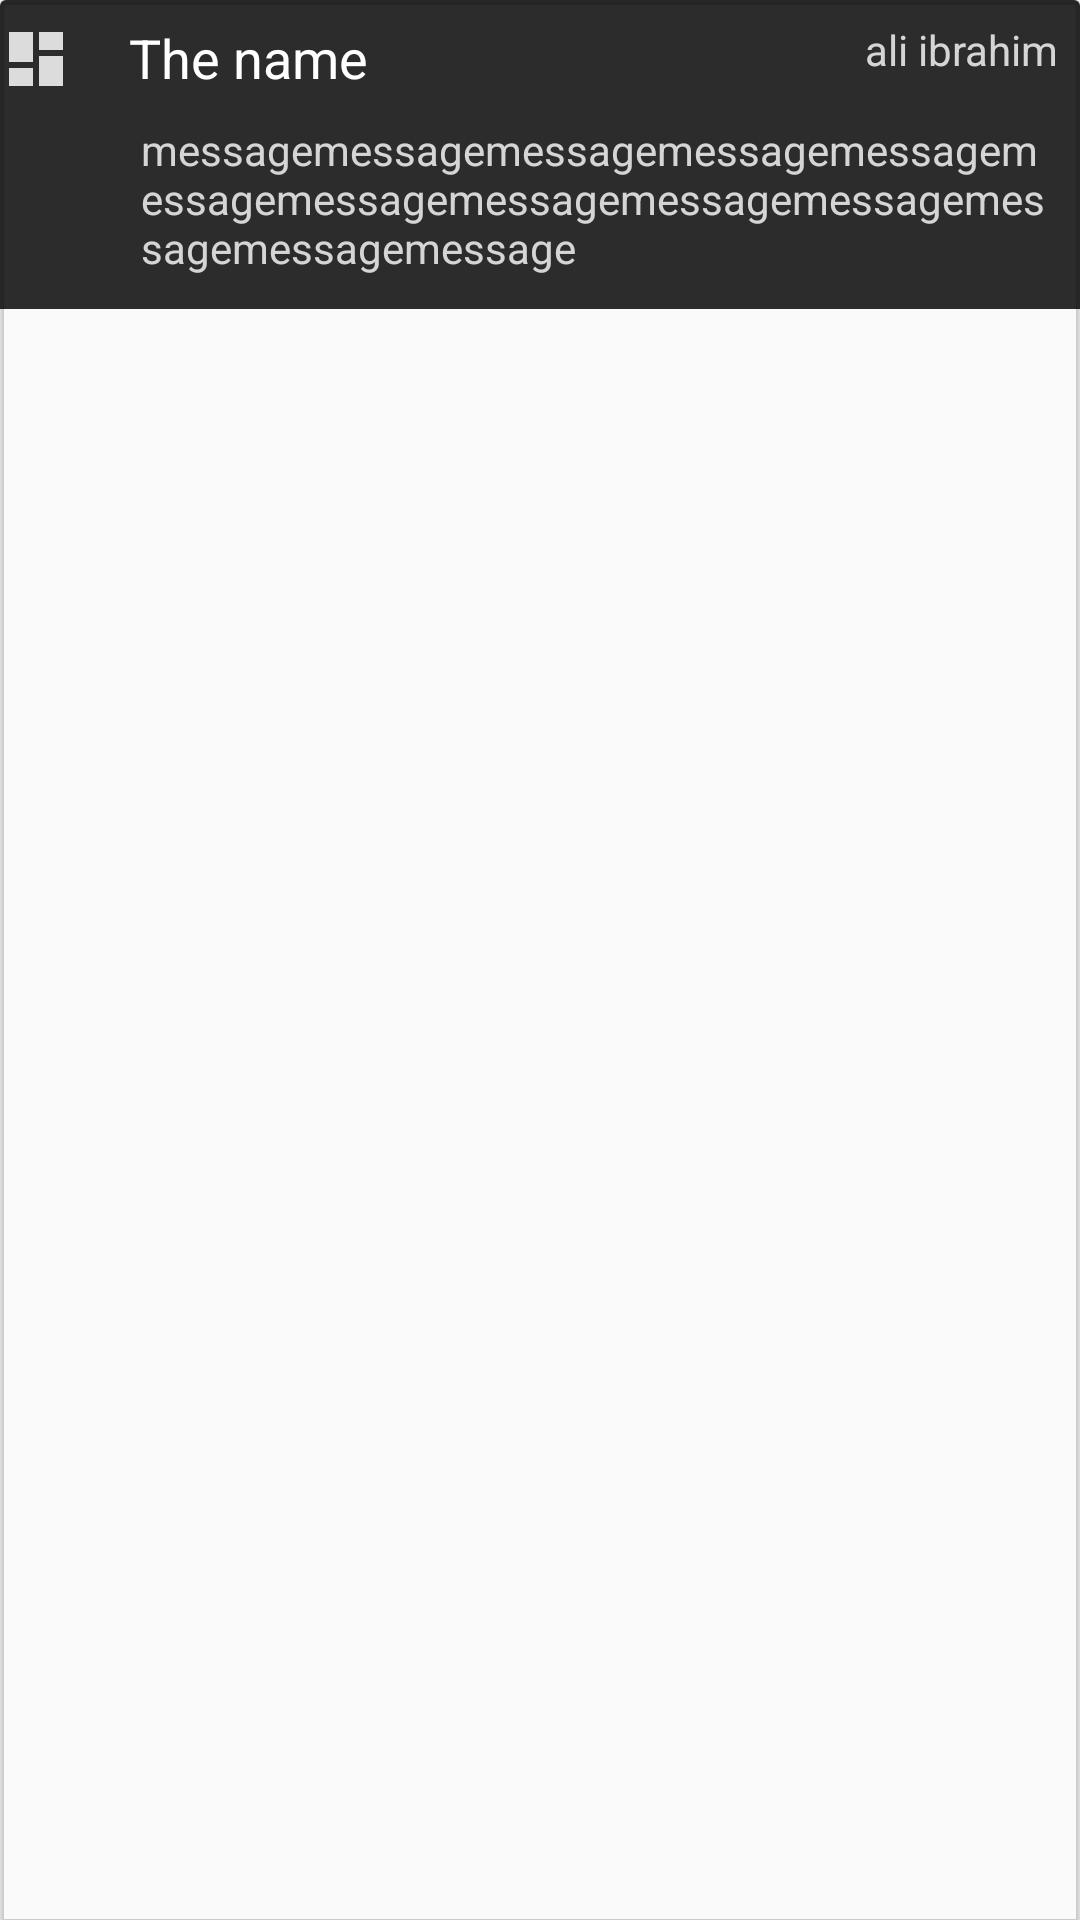

Named icons in this screenshot (1080x1920) and their centers, point (x, y):
dashboard: point (31, 43)
